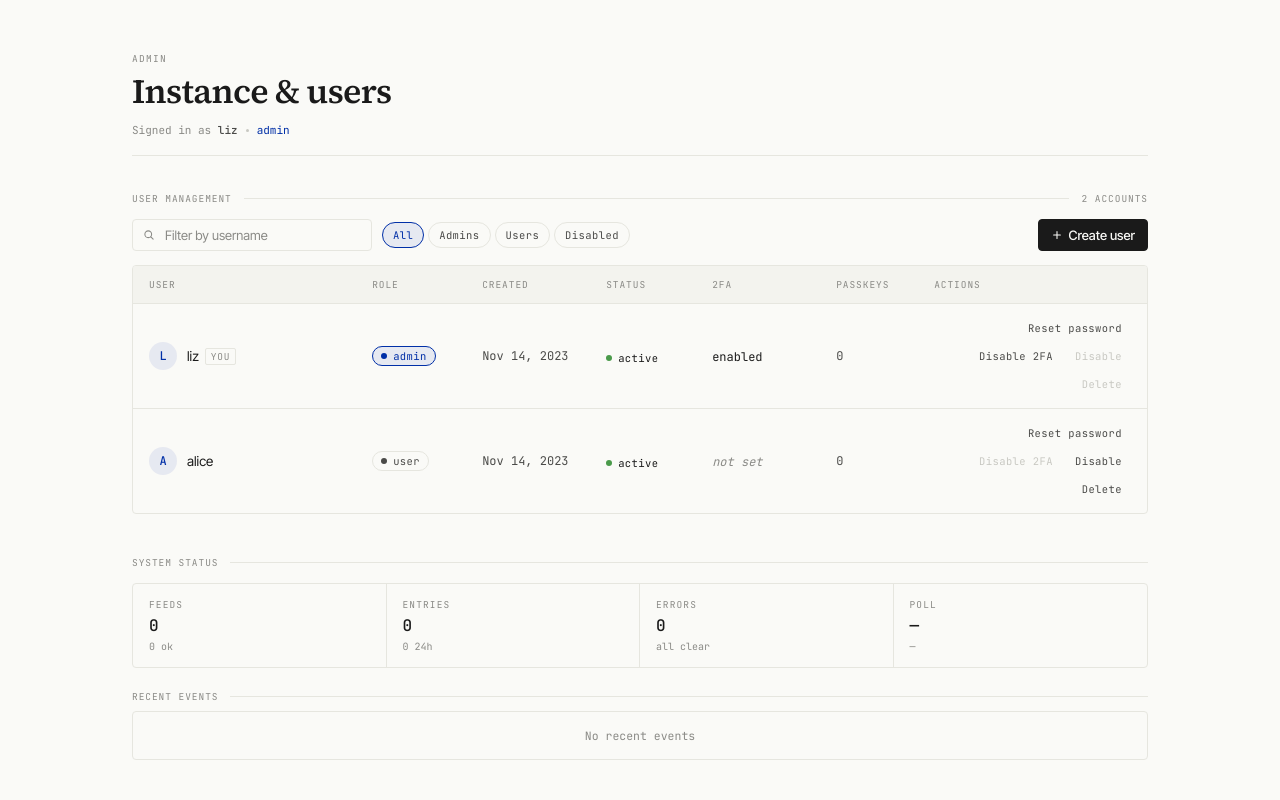
Test case: Admin (mutations) › Delete user → confirm → row removed
The width and height of the screenshot is (1280, 800).
Expected: the text with test id "urow-pk-2" is shown, [836,453,843,469]
Click the button with test id "urow-action-delete-2" at (1102, 489), box [1073,477,1131,501]
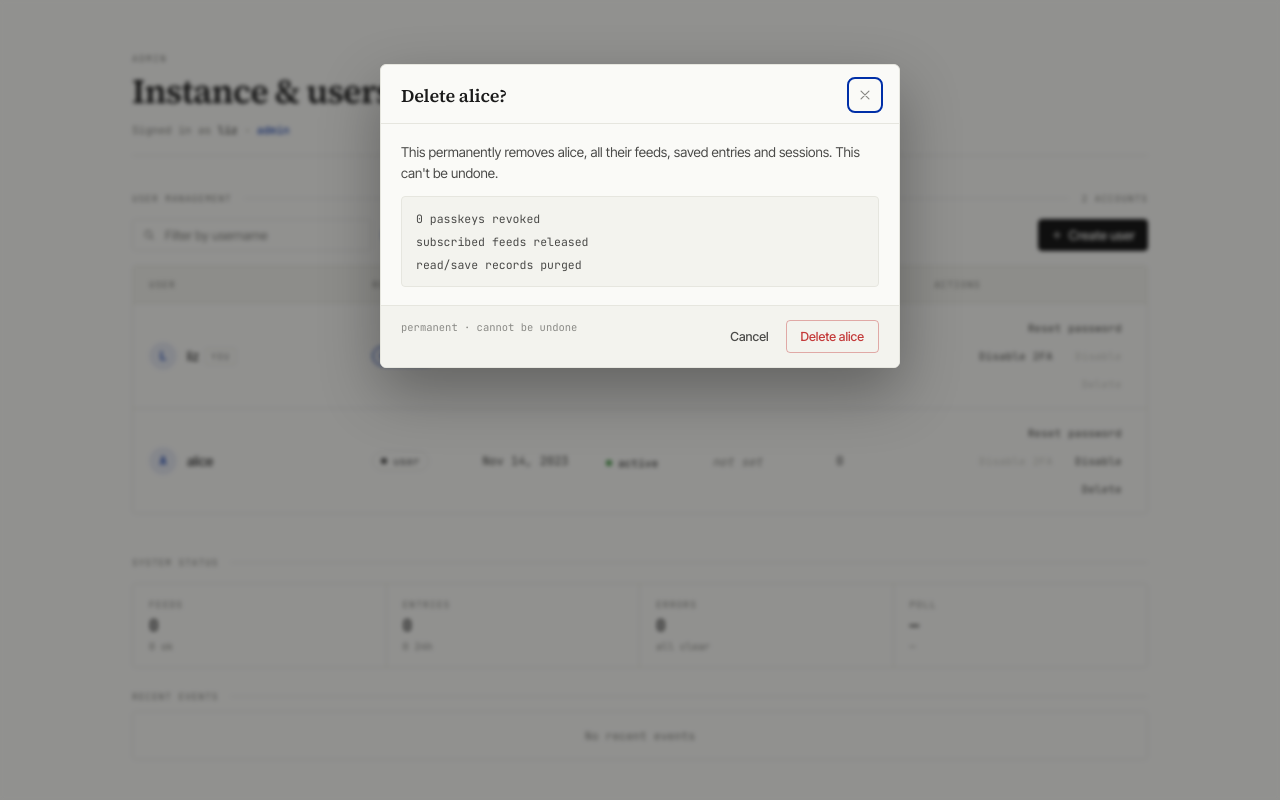
Now the button "Delete alice" is shown
Click the button "Delete alice" at (832, 336), box [786,320,879,353]
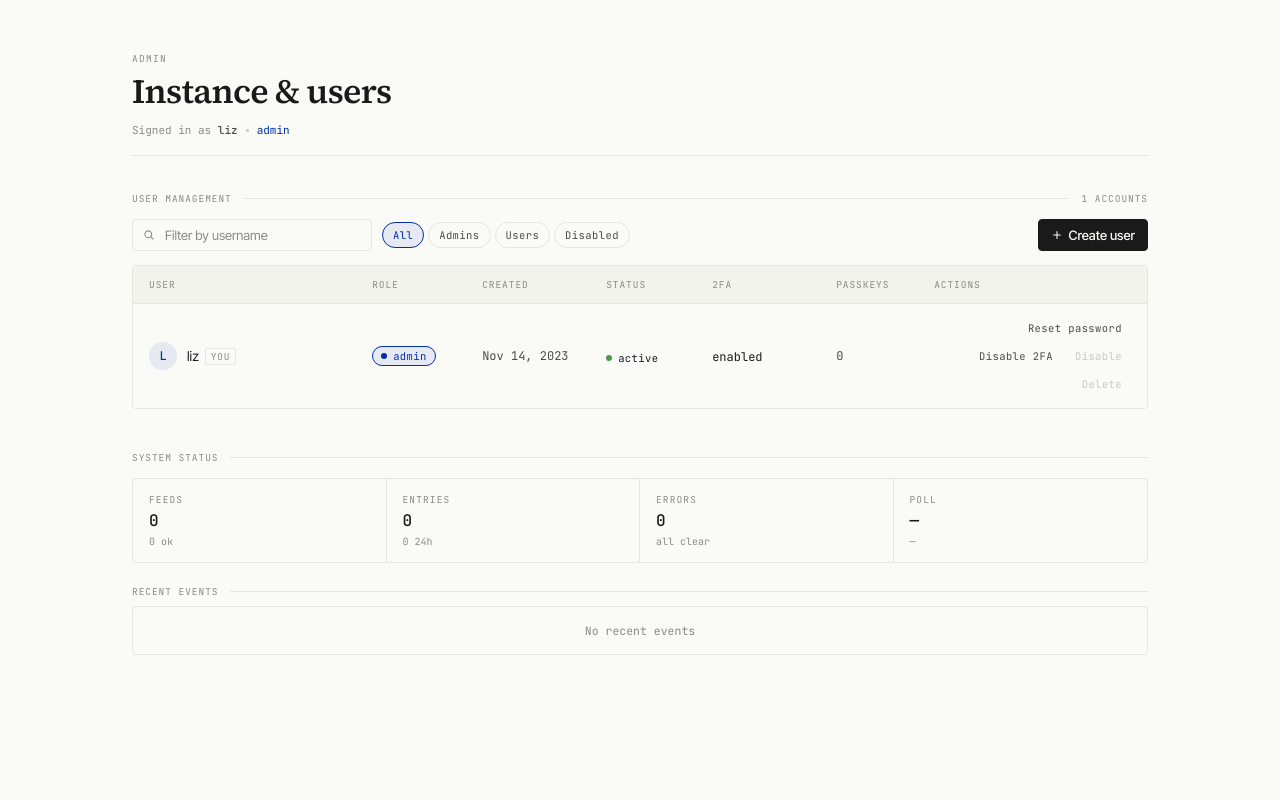
Now the text with test id "urow-pk-2" is gone
